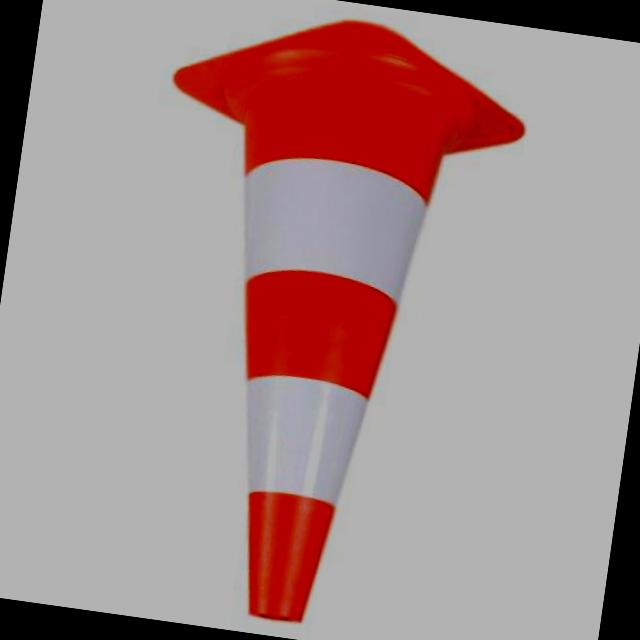cone: (101, 0, 532, 640)
